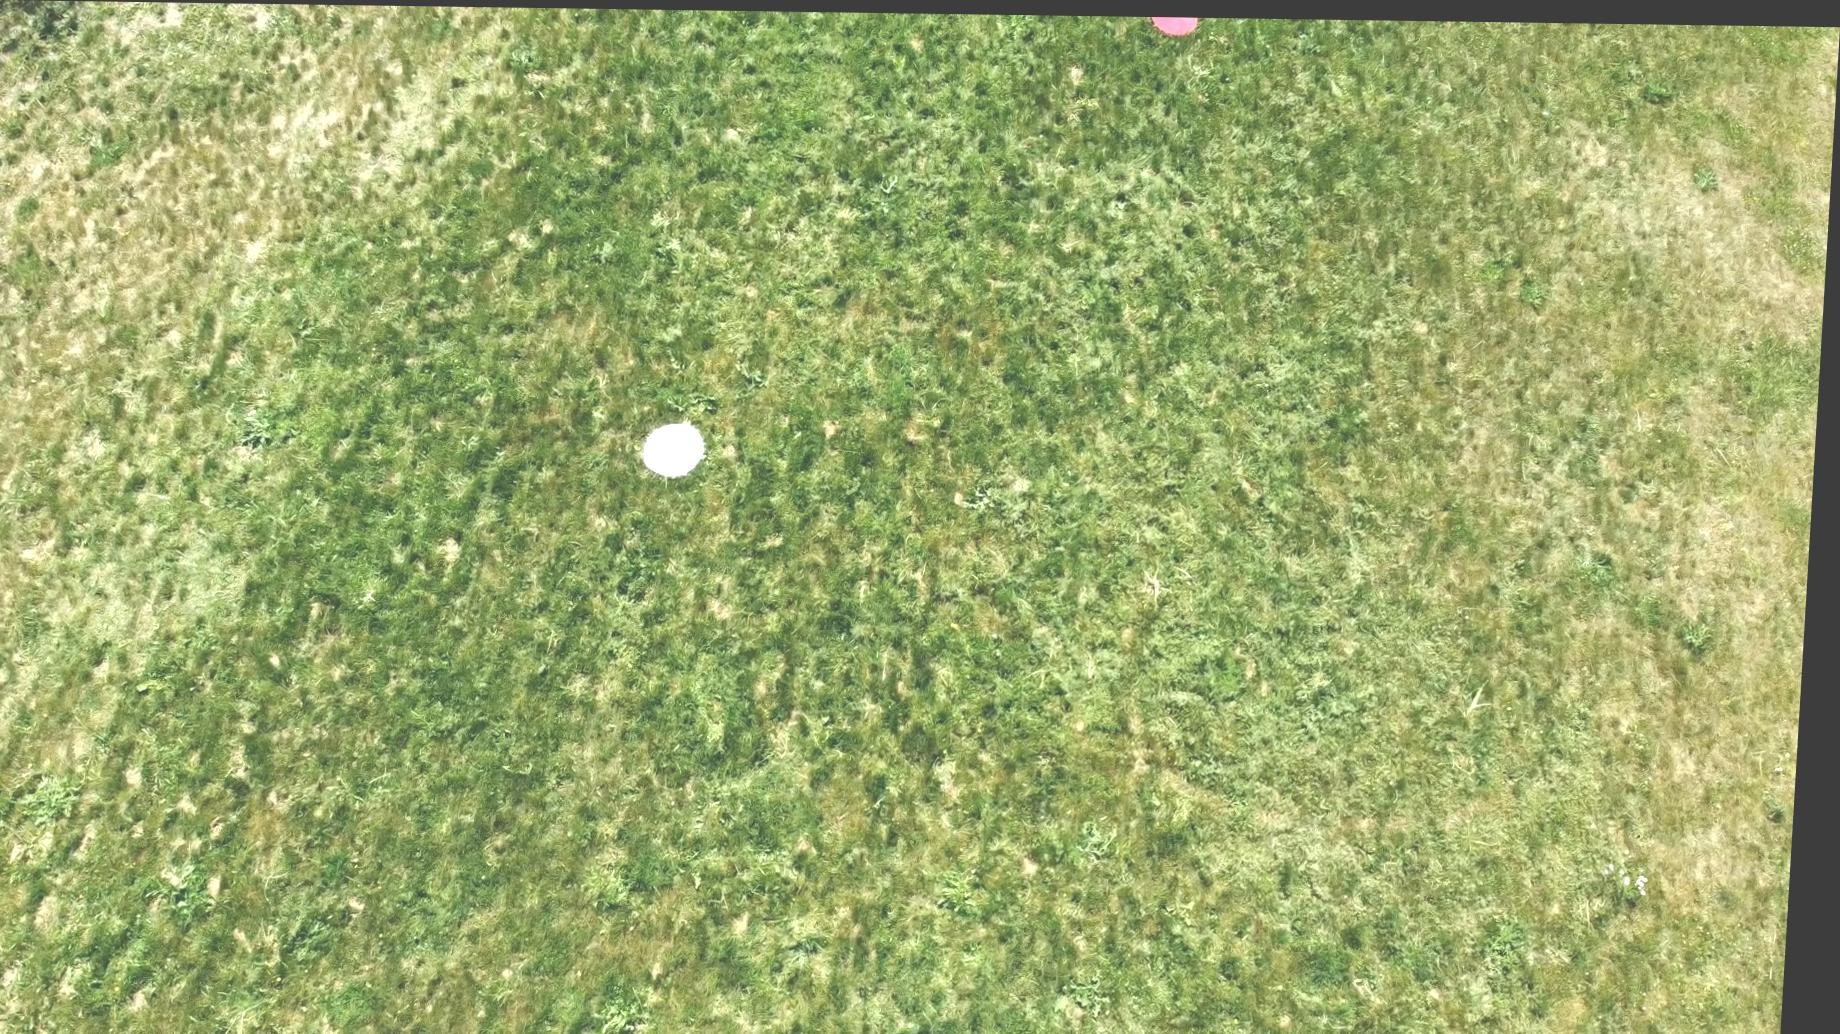Red: (1147, 14, 1201, 34)
Unknown: (646, 417, 711, 477)
